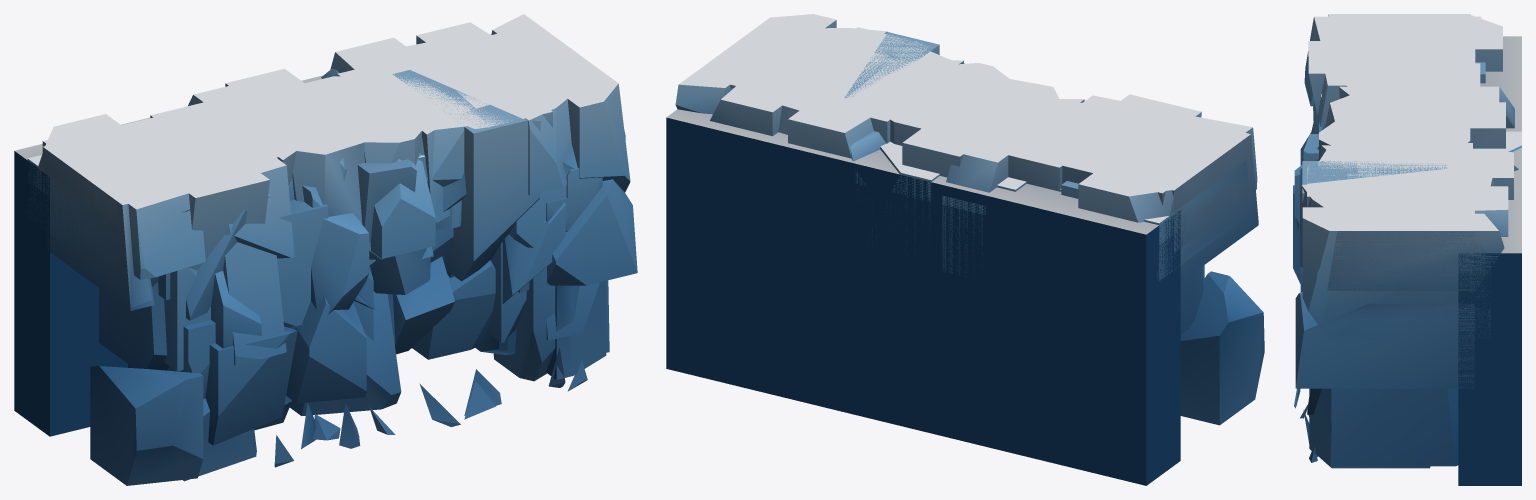
The model's file is cliff-kit.glb.
3 renders of one model, left to right at view 1: azimuth 30°, elevation 25°; view 2: azimuth 150°, elevation 25°; view 3: azimuth 270°, elevation 25°, orthographic. The views are drawn at different scales.
Visible parts, largest first — view 1: ice_wall_0, ice_wall_2, ice_wall_3, ice_wall_1; view 2: ice_wall_0, ice_wall_1, ice_wall_3, ice_wall_2; view 3: ice_wall_0, ice_wall_3, ice_wall_2, ice_wall_1.
Part boxes in pixels (box(x1,y1,x2,y2)): ice_wall_0: box(14, 14, 637, 436); ice_wall_2: box(42, 24, 578, 485); ice_wall_3: box(25, 22, 630, 481); ice_wall_1: box(14, 70, 625, 467); ice_wall_0: box(666, 20, 1258, 485); ice_wall_1: box(666, 32, 1250, 485); ice_wall_3: box(710, 14, 1241, 278); ice_wall_2: box(707, 24, 1264, 425); ice_wall_0: box(1294, 14, 1521, 485); ice_wall_3: box(1294, 14, 1518, 466); ice_wall_2: box(1293, 14, 1485, 418); ice_wall_1: box(1302, 94, 1521, 485).
Size of the model in its own units: 2.1 by 1.15 by 0.9359.
